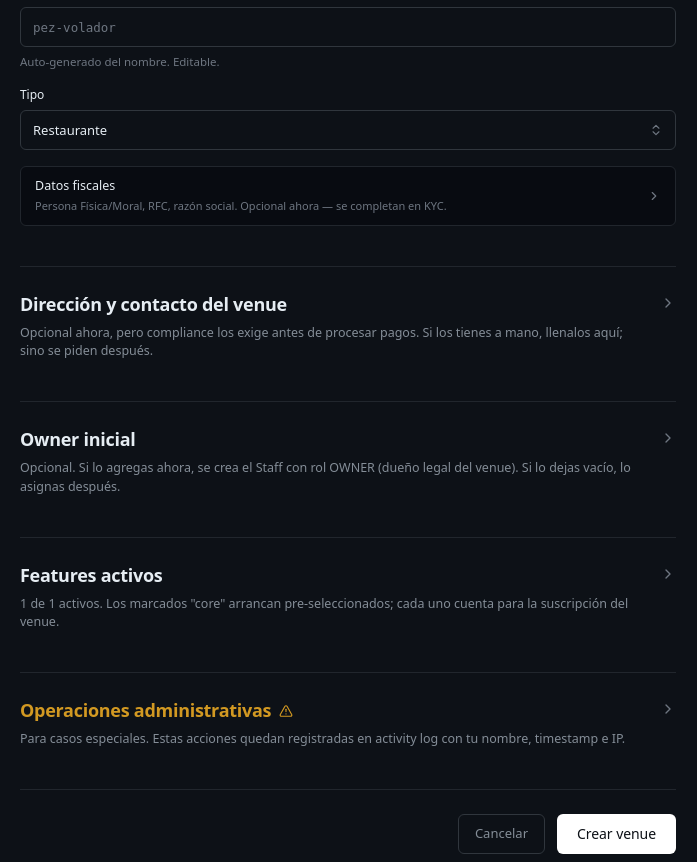
Test: NewVenuePage › al expandir "Owner inicial" se muestran los campos del owner
(page scrolled)
Click the button "Owner inicial". click: [348, 461]
box: left=20, top=426, right=676, bottom=496
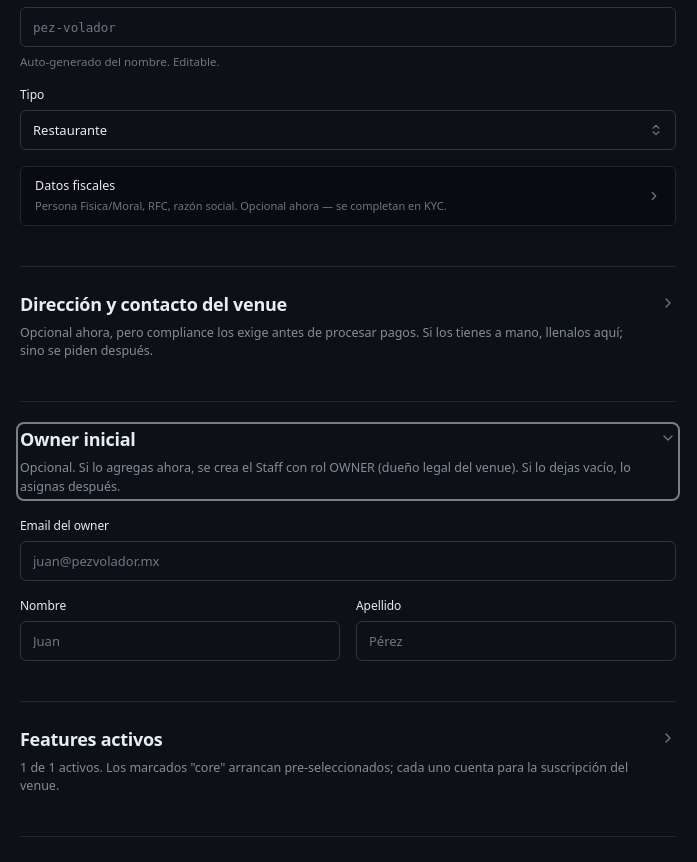
Result: the field with id "owner-email" is shown at left=20, top=540, right=676, bottom=580
Result: the field with id "owner-first" is shown at left=20, top=620, right=340, bottom=660
